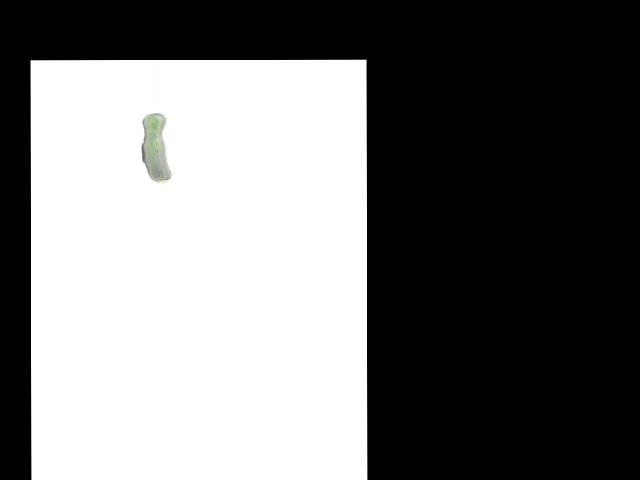cucumber: (142, 113, 171, 183)
